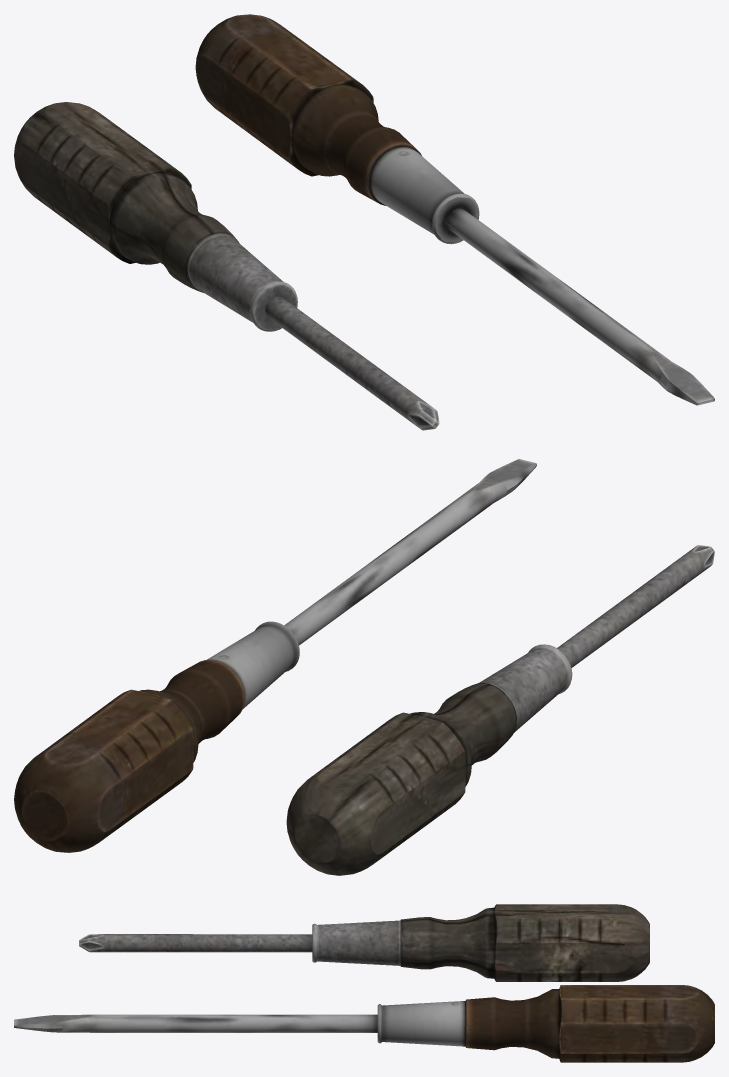
File: screwdrivers_02.glb
The picture shows the model from 3 angles, top to bottom: view 1: azimuth 30°, elevation 25°; view 2: azimuth 150°, elevation 25°; view 3: azimuth 270°, elevation 25°; orthographic projection. The views are drawn at different scales.
Parts seen in each view (by area): view 1: screwdrivers_02_a; view 2: screwdrivers_02_a; view 3: screwdrivers_02_a.
Boxes of the visible parts, x1,y1,x2,y2 form: screwdrivers_02_a: (14, 14, 714, 430); screwdrivers_02_a: (14, 459, 714, 875); screwdrivers_02_a: (14, 904, 714, 1062).
Size of the model in its own units: 0.1004 by 0.0271 by 0.2699.
Materials: 1 (1 with a texture image).
